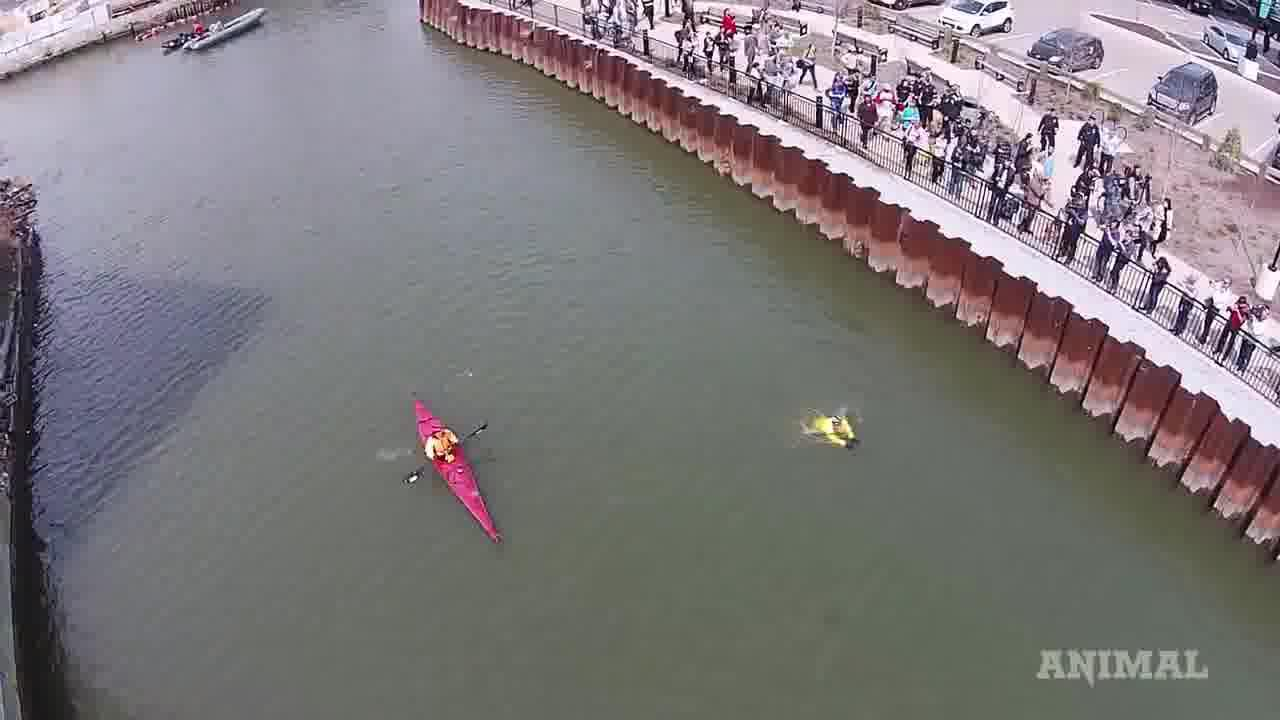human: (793, 403, 862, 456)
